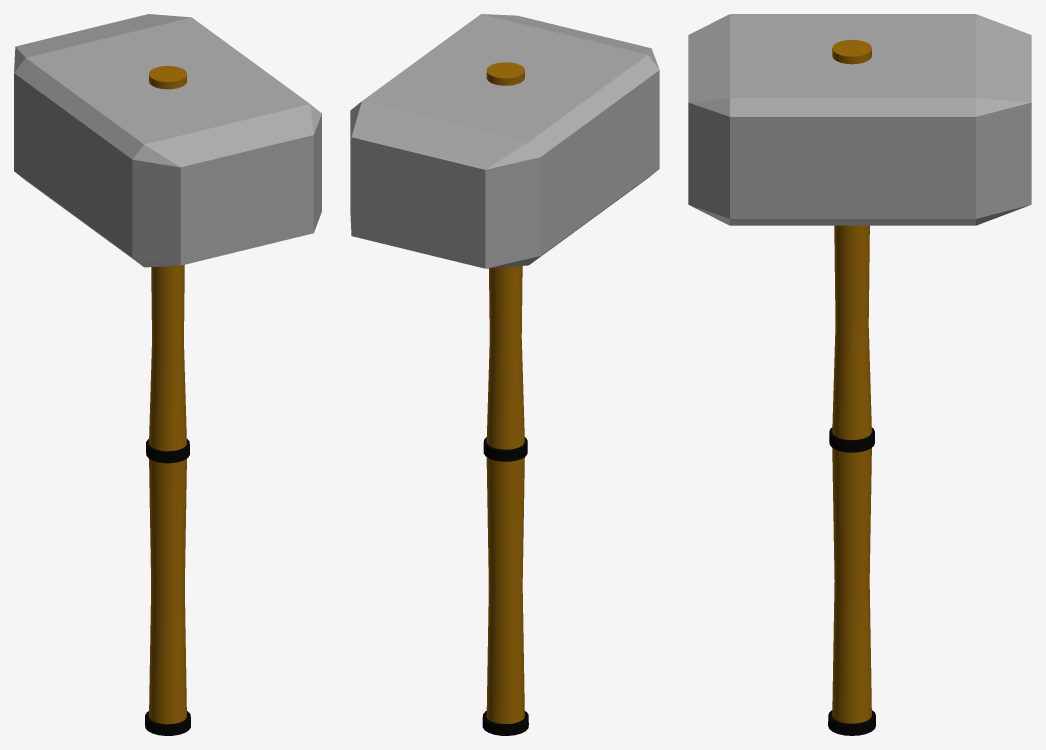
File: Peace_Keeper.fbx
The picture shows the model from 3 angles, left to right: view 1: azimuth 30°, elevation 25°; view 2: azimuth 150°, elevation 25°; view 3: azimuth 270°, elevation 25°; orthographic projection. The views are drawn at different scales.
Parts seen in each view (by area): view 1: pCube2; view 2: pCube2; view 3: pCube2.
Boxes of the visible parts, x1,y1,x2,y2 form: pCube2: [14, 14, 321, 735]; pCube2: [350, 14, 659, 735]; pCube2: [688, 14, 1031, 735].
Bounding box in the file's own units: 9.95 × 32.72 × 15.02.
